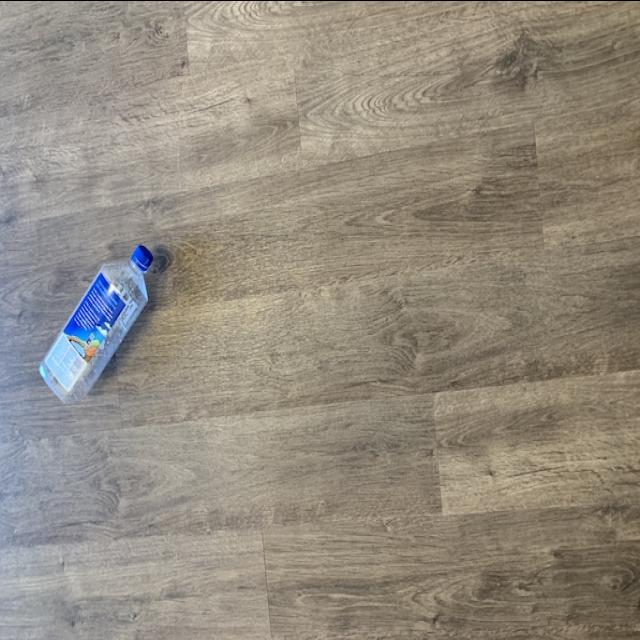litter: (42, 238, 162, 412)
